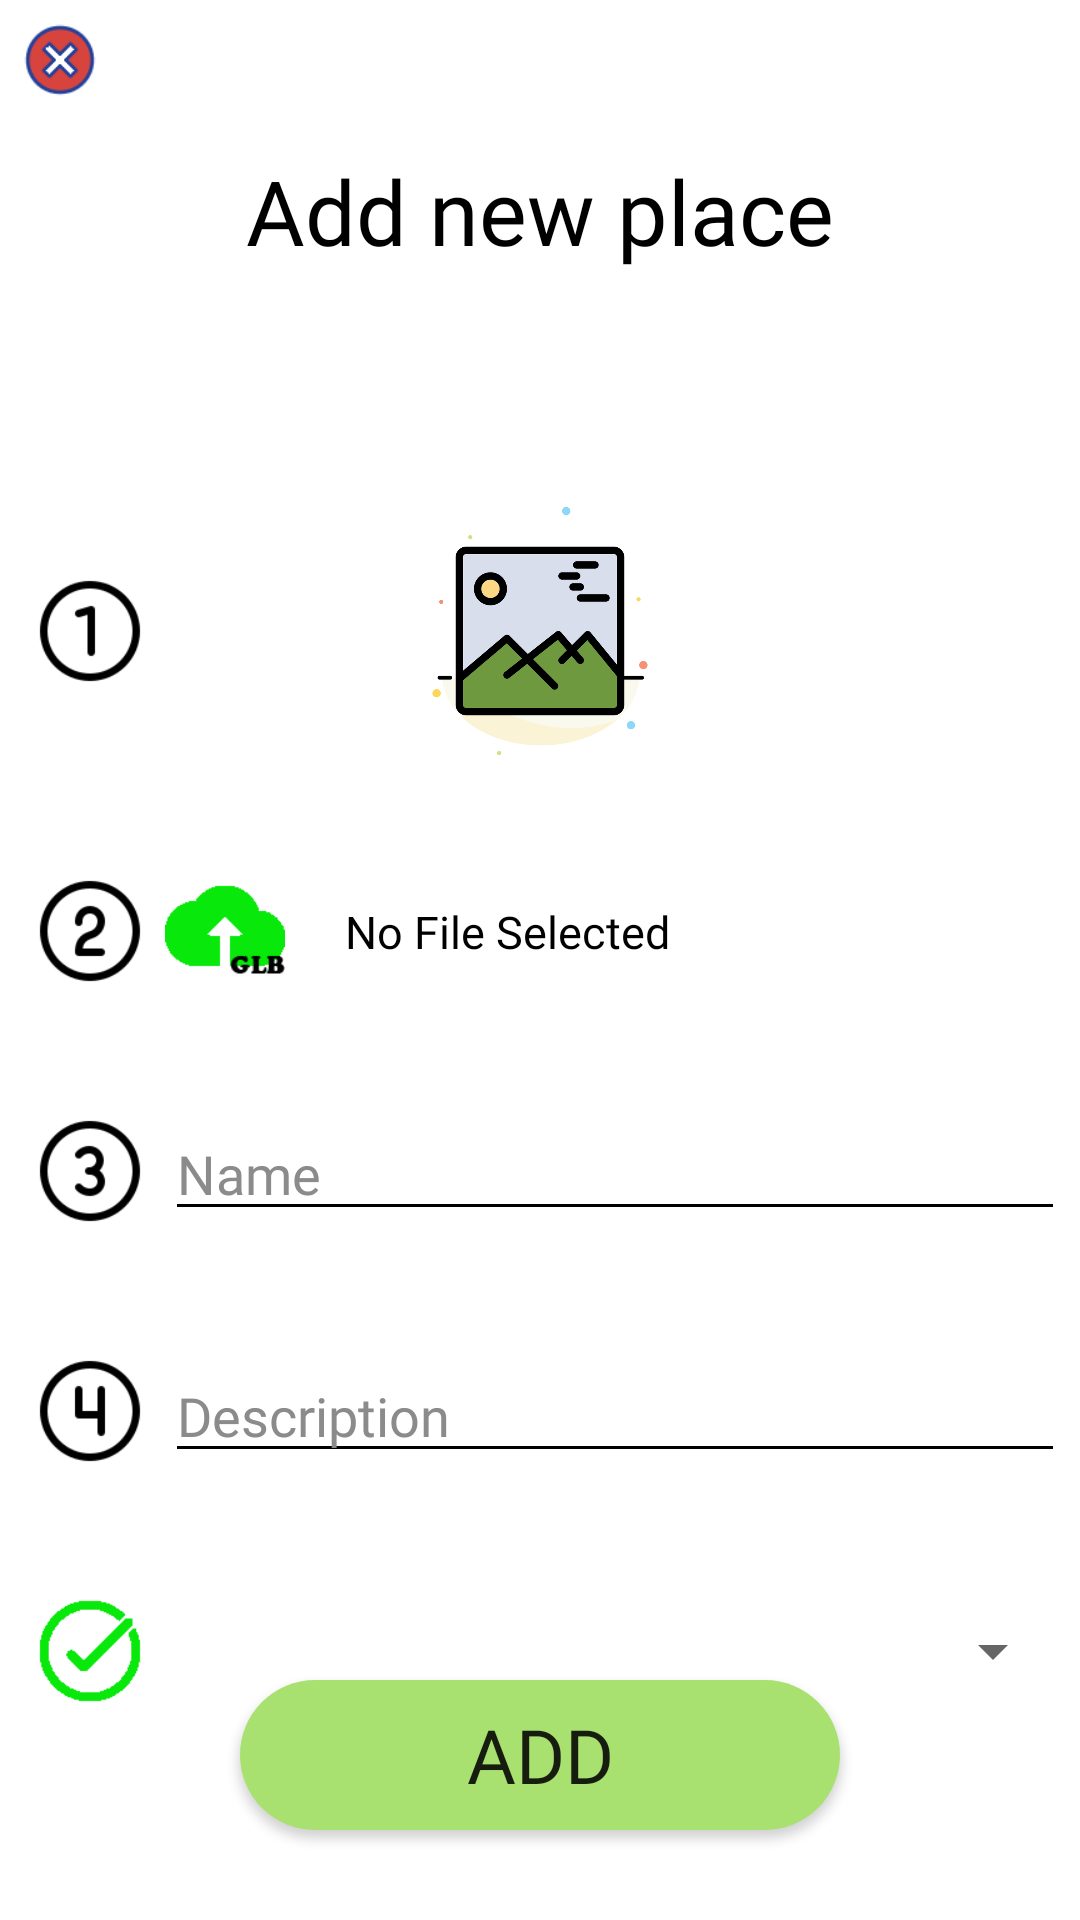

Icons on this 1080 x 1920 Android screen, each with the point to tap as (x=x, y=y):
close: (x=60, y=60)
number: (x=90, y=631), (x=90, y=931), (x=90, y=1171), (x=90, y=1411)
